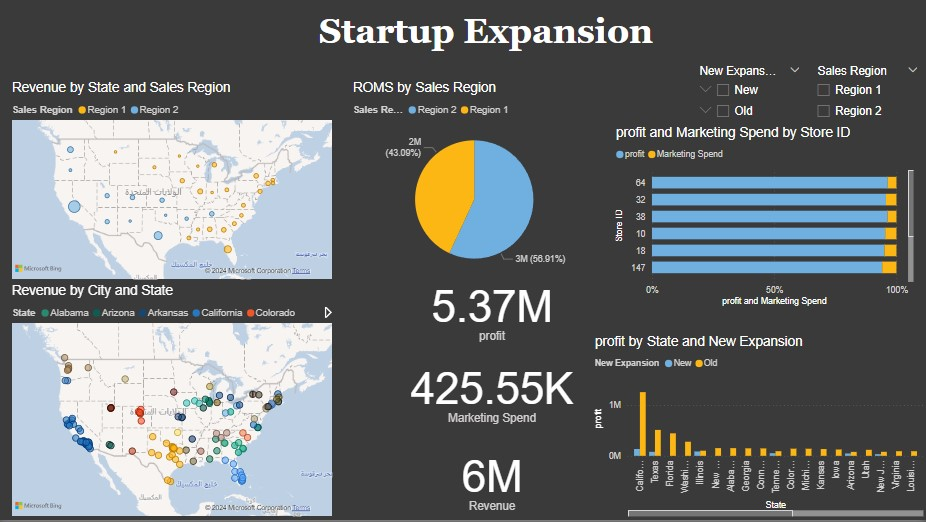

The page's visual inventory and layout, read from the dashboard file:
{"tool":"powerbi","page":{"name":"Page 1","canvas":[1280,720],"ordinal":0},"visuals":[{"type":"map","fields":{"Category":["startup-expansion-modified.State"],"Size":["Sum(startup-expansion-modified.Revenue)"],"Series":["startup-expansion-modified.Sales Region"]},"box":[15.1,114.4,450.8,279.2],"z":0},{"type":"textbox","box":[437.3,13.5,486.1,74],"z":1000},{"type":"map","fields":{"Category":["startup-expansion-modified.City"],"Series":["startup-expansion-modified.State"]},"box":[15.1,393.6,450.8,326.3],"z":2000},{"type":"hundredPercentStackedBarChart","fields":{"Category":["startup-expansion-modified.Store ID"],"Y":["Sum(startup-expansion-modified.profit)","Sum(startup-expansion-modified.Marketing Spend)"]},"box":[846,176.6,420.5,254],"z":3000},{"type":"pieChart","fields":{"Y":["Sum(startup-expansion-modified.ROMS)"],"Category":["startup-expansion-modified.Sales Region"]},"box":[484.4,114.4,344.8,279.2],"z":4000},{"type":"card","fields":{"Values":["Sum(startup-expansion-modified.profit)"]},"box":[545,373.4,272.5,112.7],"z":5000},{"type":"card","fields":{"Values":["Sum(startup-expansion-modified.Marketing Spend)"]},"box":[545,486.1,272.5,112.7],"z":6000},{"type":"card","fields":{"Values":["Sum(startup-expansion-modified.Revenue)"]},"box":[545,607.2,272.5,112.7],"z":7000},{"type":"clusteredColumnChart","fields":{"Y":["Sum(startup-expansion-modified.profit)"],"Category":["startup-expansion-modified.State"],"Series":["startup-expansion-modified.New Expansion"]},"box":[817.5,464.2,462.5,255.7],"z":8000},{"type":"slicer","fields":{"Values":["startup-expansion-modified.Sales Region"]},"box":[1116.8,87.5,163.2,89.1],"z":9000},{"type":"slicer","fields":{"Values":["startup-expansion-modified.New Expansion","startup-expansion-modified.Sales Region"]},"box":[953.7,87.5,163.2,89.1],"z":10000}]}

Visuals, with their boxes in screenshot pixels (x1, y1, x2, y2), scaled from the page's 1280x720 canvas onto the 926x522 screenshot:
map - startup-expansion-modified.State x Sum(startup-expansion-modified.Revenue): rect(11, 83, 337, 285)
textbox: rect(316, 10, 668, 63)
map - startup-expansion-modified.City x startup-expansion-modified.State: rect(11, 285, 337, 521)
hundredPercentStackedBarChart - startup-expansion-modified.Store ID x Sum(startup-expansion-modified.profit): rect(612, 128, 916, 312)
pieChart - Sum(startup-expansion-modified.ROMS) x startup-expansion-modified.Sales Region: rect(350, 83, 600, 285)
card - Sum(startup-expansion-modified.profit): rect(394, 271, 591, 352)
card - Sum(startup-expansion-modified.Marketing Spend): rect(394, 352, 591, 434)
card - Sum(startup-expansion-modified.Revenue): rect(394, 440, 591, 521)
clusteredColumnChart - Sum(startup-expansion-modified.profit) x startup-expansion-modified.State: rect(591, 337, 925, 521)
slicer - startup-expansion-modified.Sales Region: rect(808, 63, 925, 128)
slicer - startup-expansion-modified.New Expansion x startup-expansion-modified.Sales Region: rect(690, 63, 808, 128)
